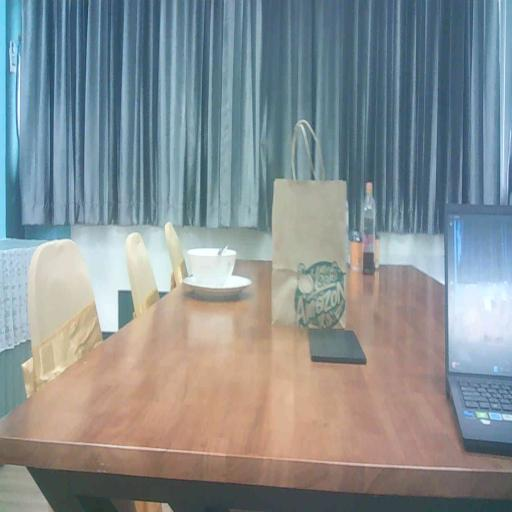bag: (268, 171, 350, 334)
